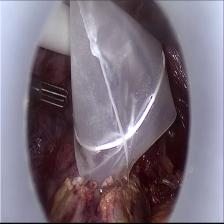Grasper: (31, 74, 69, 116)
Specimen Bag: (69, 0, 181, 187)
